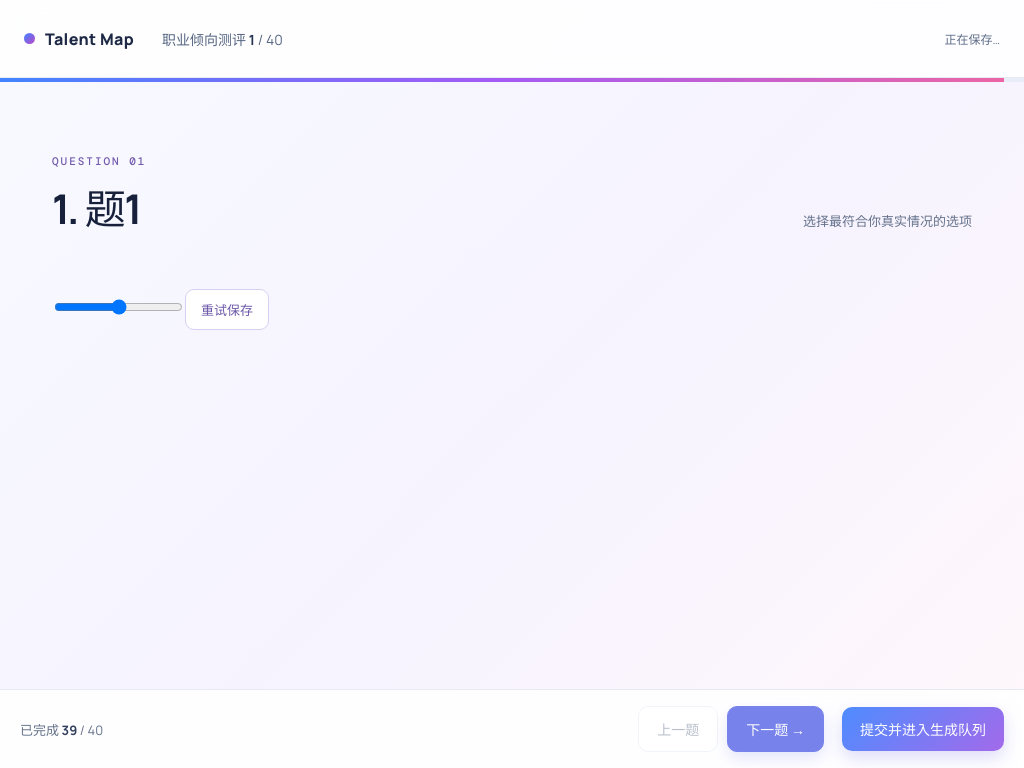
Test case: AssessmentFlow lifecycle › does not submit while a locally restored answer is still unsaved
The image size is (1024, 768).
Click the button "提交并进入生成队列". click: [923, 729]
box: [842,707,1004,751]
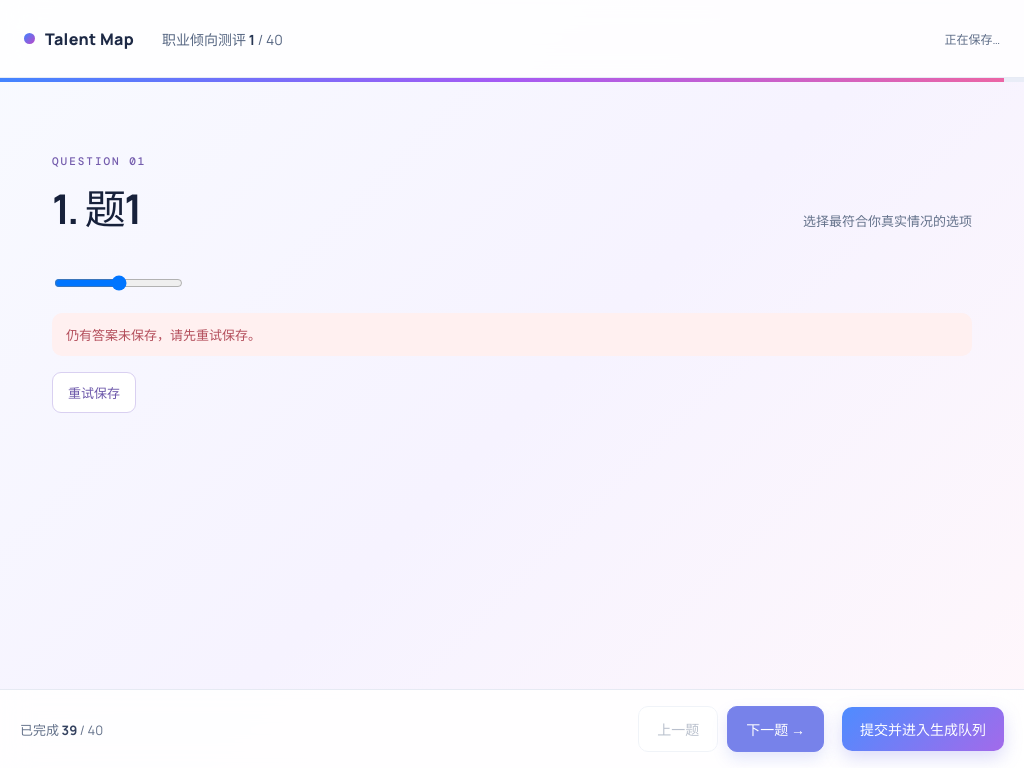
Check: the message "仍有答案未保存，请先重试保存。" is shown, box [52,313,972,356]
